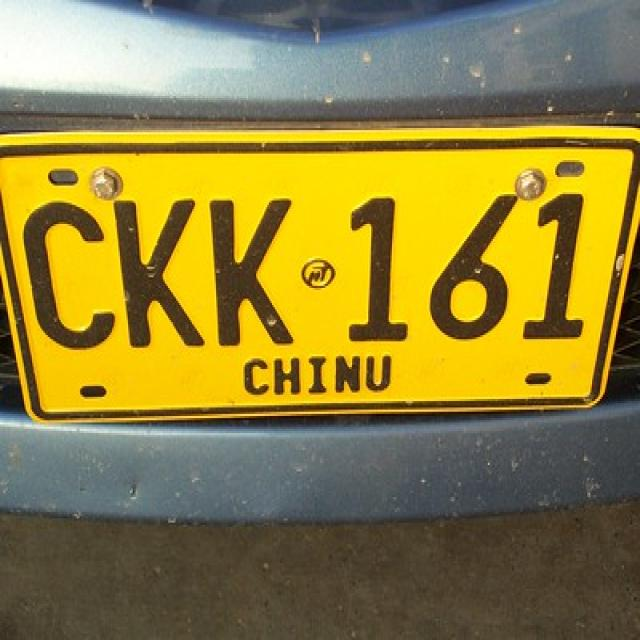placa_carro: (1, 125, 635, 416)
